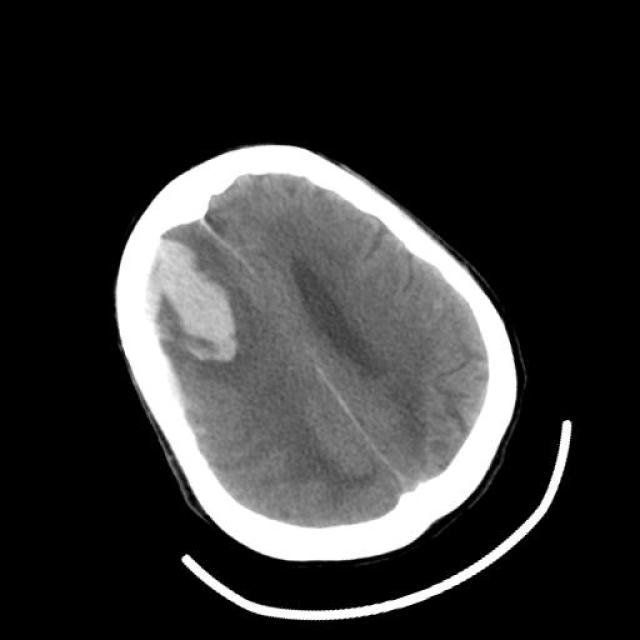Intraparenchymal: (116, 210, 268, 384)
Subdural: (134, 330, 240, 524)
